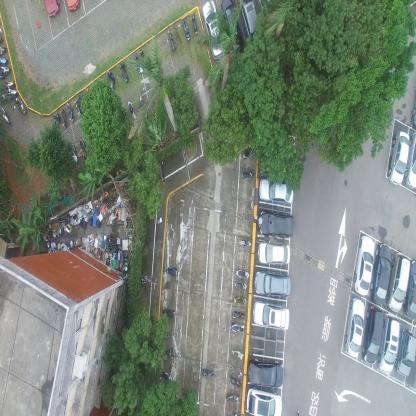car: (386, 251, 411, 314), (201, 0, 227, 59), (221, 0, 246, 58), (377, 312, 400, 374), (370, 243, 392, 306), (353, 235, 375, 298), (362, 304, 384, 366), (388, 129, 410, 188), (344, 299, 365, 360), (247, 356, 283, 388), (252, 300, 289, 331), (245, 386, 282, 416), (257, 209, 295, 238), (239, 0, 263, 45), (394, 327, 416, 376), (253, 270, 291, 297), (258, 177, 294, 205), (257, 240, 291, 266), (403, 259, 415, 320), (404, 130, 416, 189), (43, 0, 60, 20), (64, 0, 82, 15)
